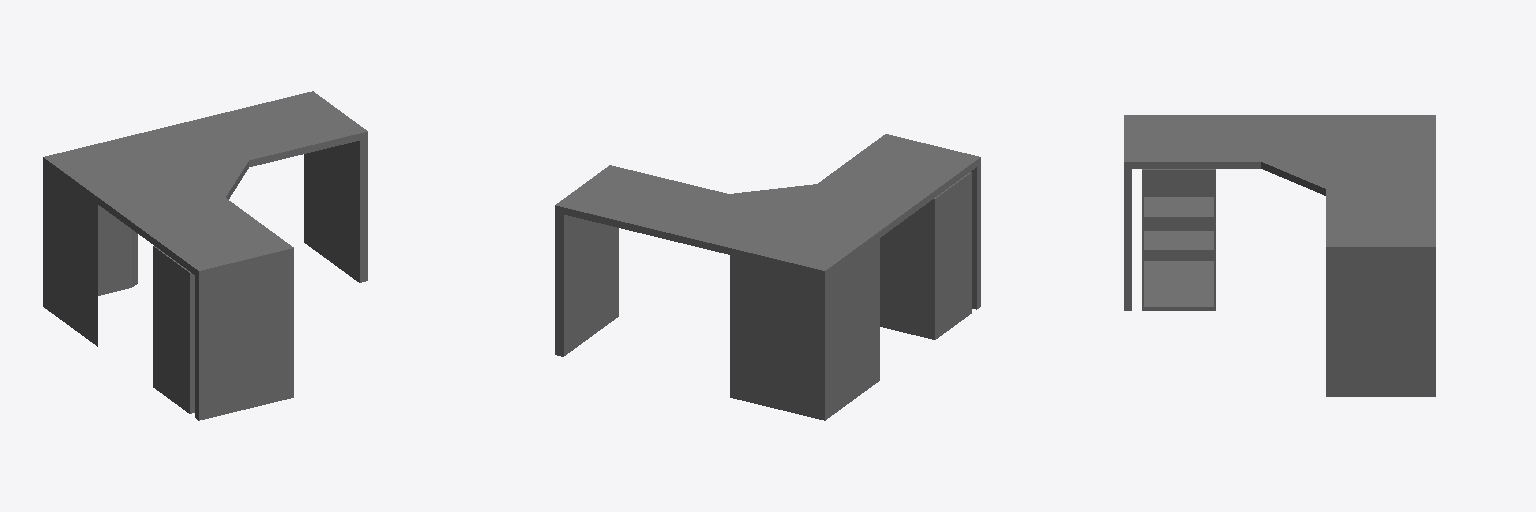
Rendered from deskNoWires.obj.
The picture shows the model from 3 angles: view 1: azimuth 30°, elevation 25°; view 2: azimuth 150°, elevation 25°; view 3: azimuth 270°, elevation 25°; orthographic projection.
Visible parts, largest first — view 1: CubicleWall5; view 2: CubicleWall5; view 3: CubicleWall5.
Part boxes in pixels (x1,y1,x2,y2): CubicleWall5: (43,91,367,420); CubicleWall5: (555,134,980,420); CubicleWall5: (1124,115,1435,396).
Size of the model in its own units: 170 by 90 by 170.